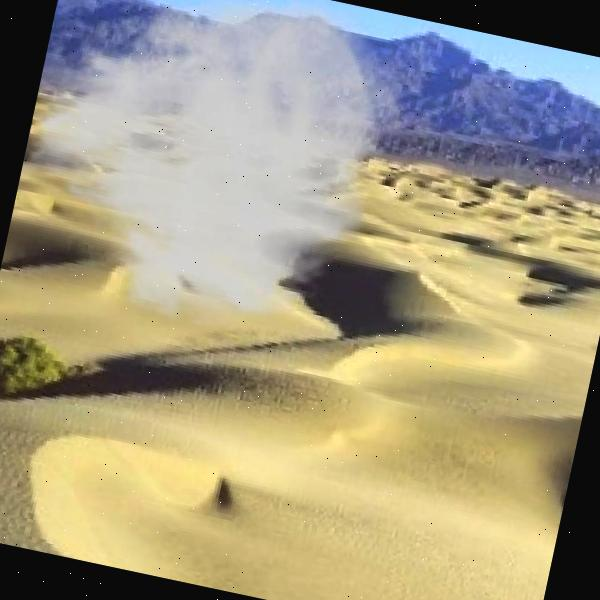smoke: (88, 2, 365, 284)
